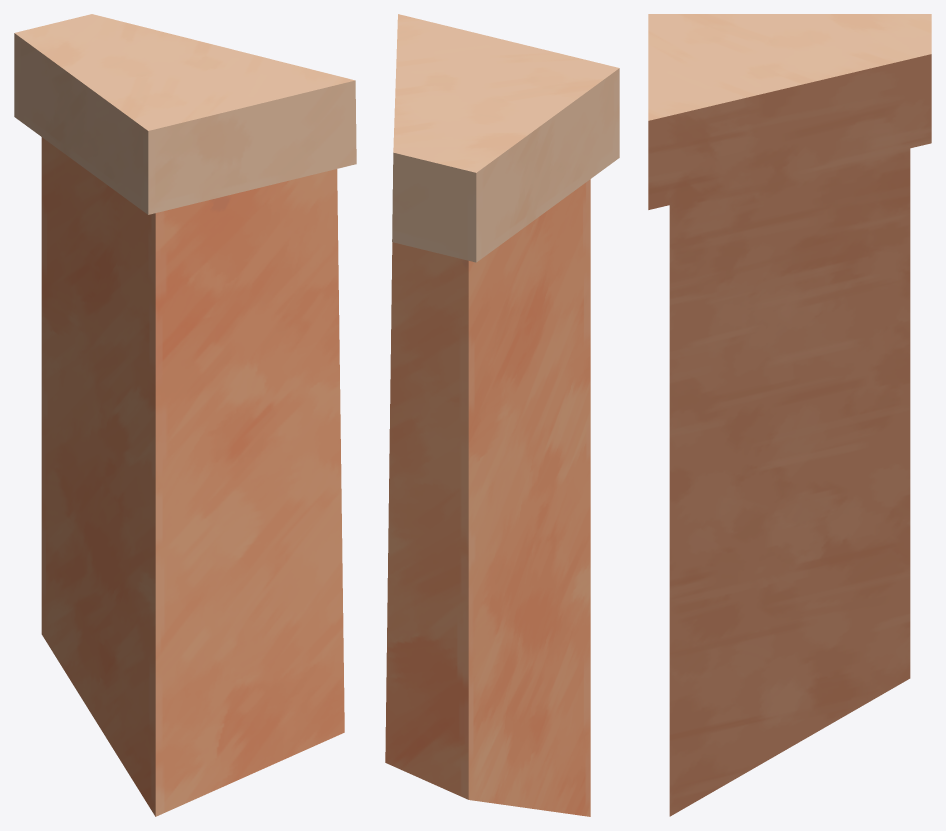
The model's file is corner2_upper_s01.fbx.
3 renders of one model, left to right at view 1: azimuth 30°, elevation 25°; view 2: azimuth 150°, elevation 25°; view 3: azimuth 270°, elevation 25°, orthographic. The views are drawn at different scales.
Visible parts, largest first — view 1: corner2_upper_s01; view 2: corner2_upper_s01; view 3: corner2_upper_s01.
Part boxes in pixels (bbox=[...]): corner2_upper_s01: bbox=[14, 14, 356, 816]; corner2_upper_s01: bbox=[385, 14, 619, 816]; corner2_upper_s01: bbox=[648, 14, 931, 816].
Bounding box in the file's own units: 1.69 × 5.4 × 1.88.
